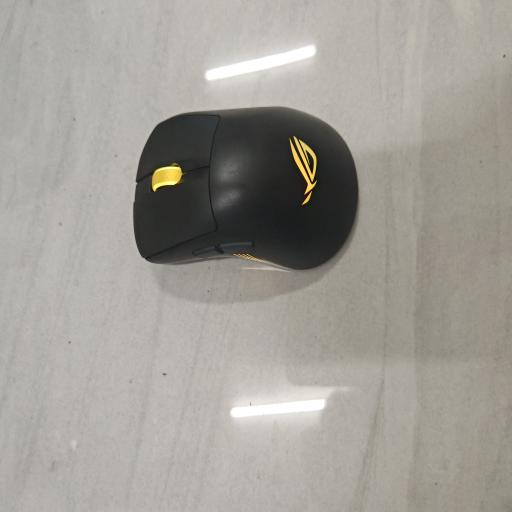mouse: (133, 107, 358, 269)
